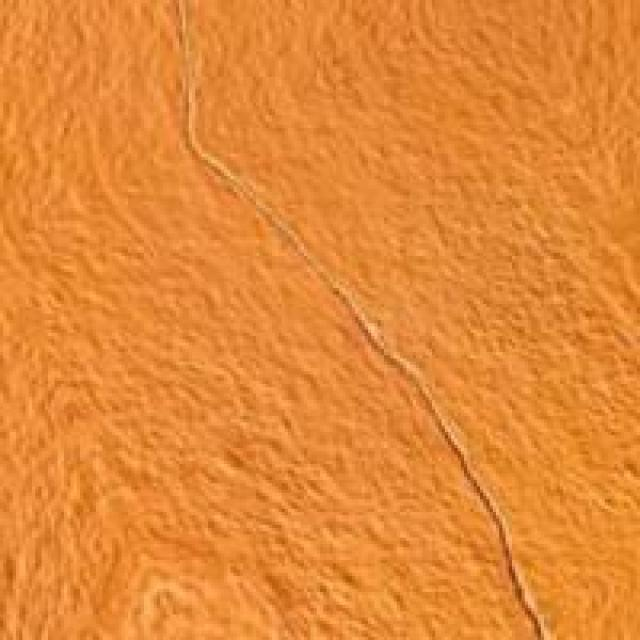Crack: (195, 96, 560, 637)
